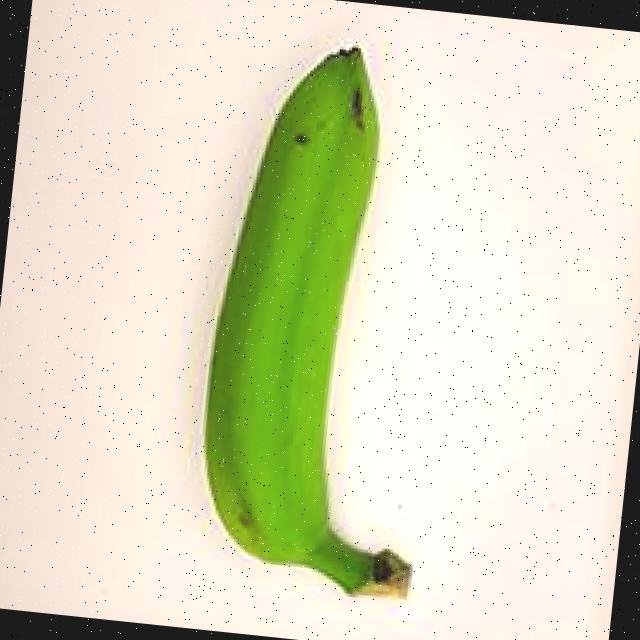Raw: (125, 22, 515, 627)
